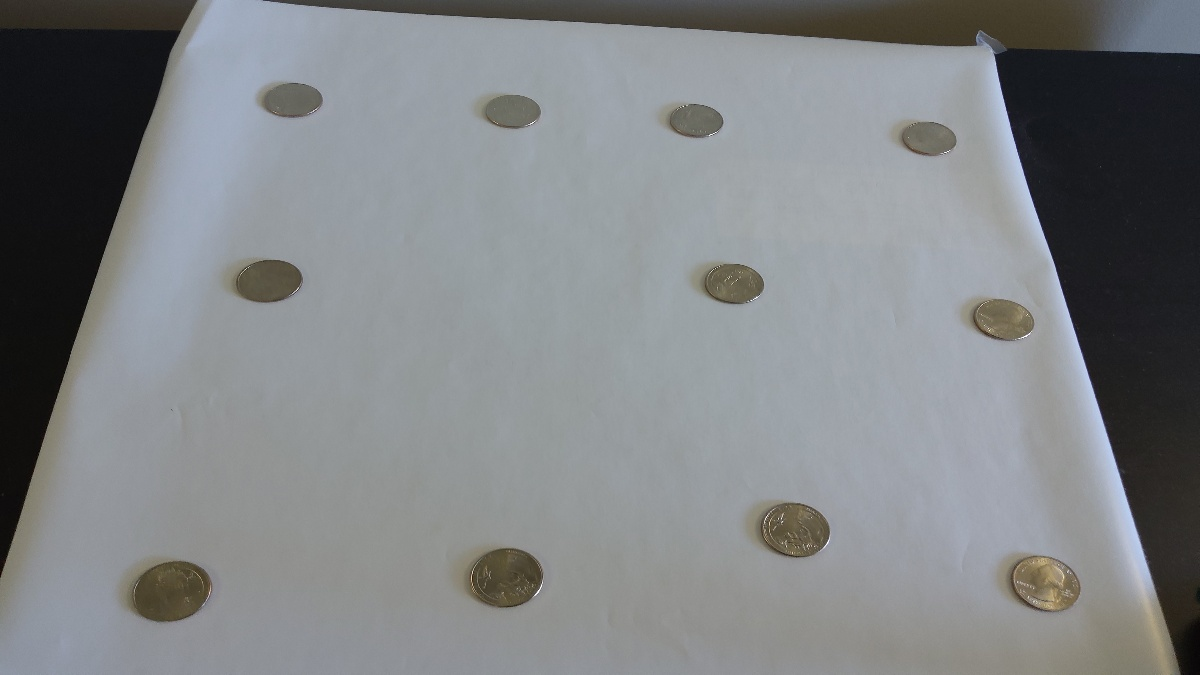coin_quarter: (127, 547, 226, 629), (989, 547, 1089, 619), (460, 538, 553, 615), (753, 491, 836, 570), (960, 286, 1050, 354), (232, 253, 309, 310), (697, 255, 771, 311), (256, 75, 331, 123), (660, 94, 728, 142), (480, 87, 543, 136), (896, 115, 960, 160)
